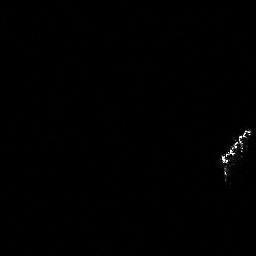ship: (215, 125, 252, 181)
